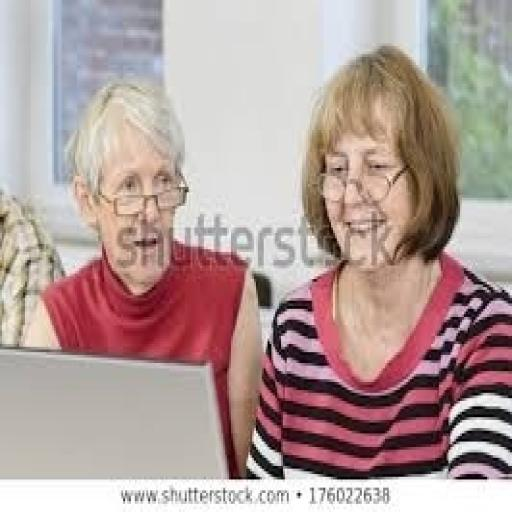using_laptop: (0, 344, 231, 480)
